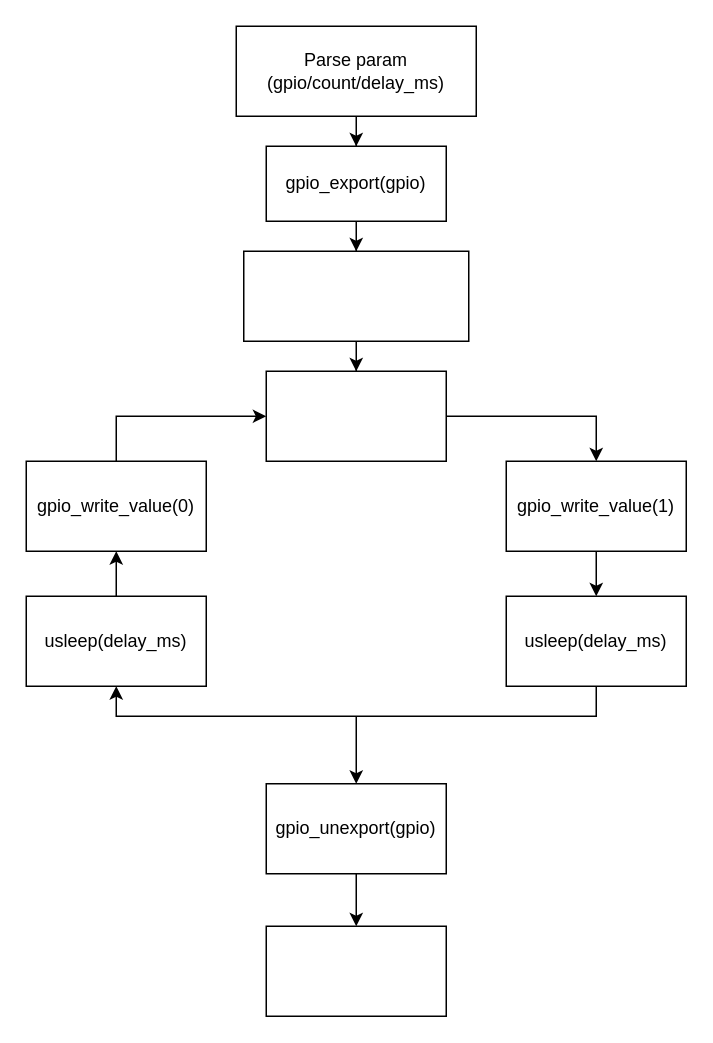
This 713x1043 diagram has some shape labels left out. The box of each missing label's shape, as (x1, y1, x2, y2) in pixels:
EXIT_SUCCESS: (265, 925, 446, 1016)
for i =0 .. count-1: (265, 370, 446, 461)
gpio_set_direction("out"): (242, 250, 469, 341)
